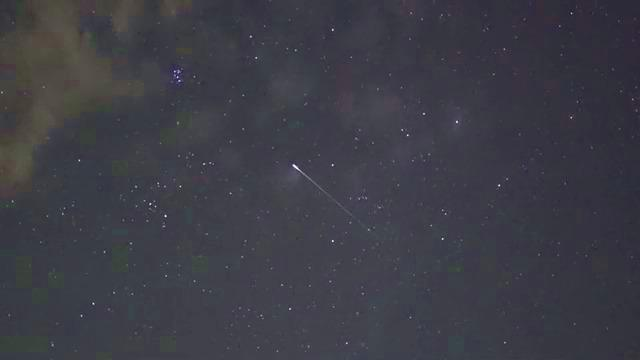meteorite: (273, 156, 381, 235)
